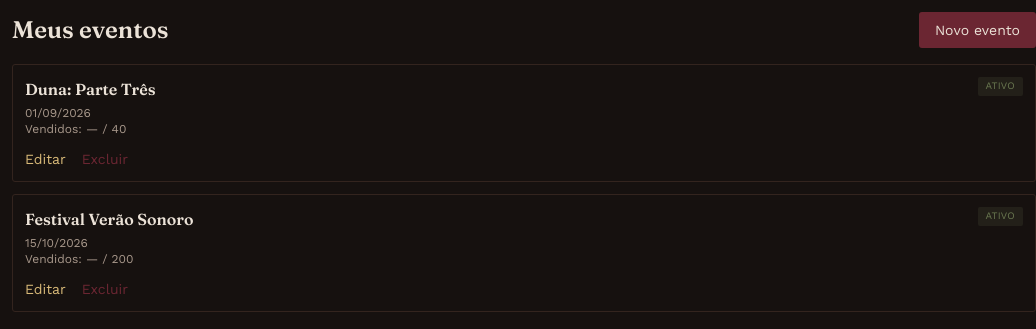
Test: OrganizerDashboardPage › deletes the event when the user confirms
Expected: the heading "Duna: Parte Três" is shown, x1=25 y1=77 x2=156 y2=101
Click the button "Excluir" below "Duna: Parte Três".
click(105, 159)  # box x1=82 y1=149 x2=128 y2=169
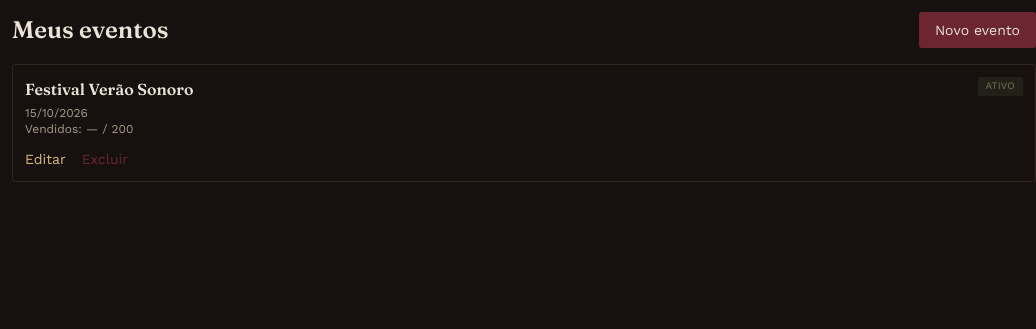
Expected: the heading "Duna: Parte Três" is gone
